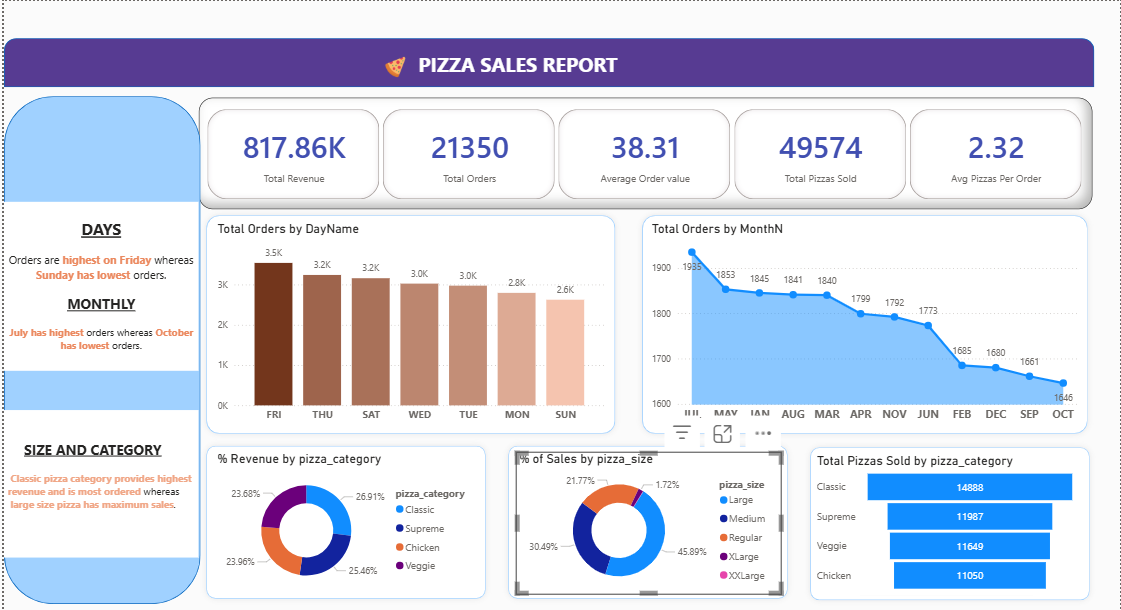

The dashboard page shown, as its layout file describes it:
{"tool":"powerbi","page":{"name":"Page 1","canvas":[1500,820],"ordinal":0},"visuals":[{"type":"cardVisual","fields":{"Data":["pizza_sales.Total Revenue","pizza_sales.Total Orders","pizza_sales.Average Order value","pizza_sales.Total Pizzas Sold","pizza_sales.Avg Pizzas Per Order"]},"box":[261.4,130,1201.4,150],"z":0},{"type":"shape","box":[0,50,1466,66],"z":1000},{"type":"textbox","box":[552,62,280,46],"z":2000},{"type":"image","box":[500,70,52,38],"z":3000},{"type":"shape","box":[264,280,566,310],"z":4000},{"type":"clusteredColumnChart","fields":{"Category":["pizza_sales.DayName"],"Y":["pizza_sales.Total Orders"]},"box":[281.4,295.7,532.9,280],"z":5000},{"type":"shape","box":[850,280,615,310],"z":6000},{"type":"areaChart","fields":{"Y":["pizza_sales.Total Orders"],"Category":["pizza_sales.MonthN"]},"box":[865,295,581.7,280],"z":7000},{"type":"shape","box":[263.3,590,391.7,221.7],"z":8000},{"type":"shape","box":[670,590,391.7,221.7],"z":9000},{"type":"shape","box":[1075,591.7,391.7,221.7],"z":10000},{"type":"donutChart","title":"% Revenue by pizza_category","fields":{"Category":["pizza_sales.pizza_category"],"Y":["pizza_sales.Total Revenue"]},"box":[281.7,605,358.3,193.3],"z":11000},{"type":"donutChart","title":"% of Sales by pizza_size","fields":{"Category":["pizza_sales.pizza_size"],"Y":["pizza_sales.Total Revenue"]},"box":[688.3,605,358.3,193.3],"z":12000},{"type":"donutChart","box":[1088.3,606.7,358.3,193.3],"z":13000},{"type":"funnel","fields":{"Category":["pizza_sales.pizza_category"],"Y":["pizza_sales.Total Pizzas Sold"]},"box":[1088.6,607.1,358.6,191.4],"z":14000},{"type":"shape","box":[0,128.6,264.3,682.9],"z":15000},{"type":"textbox","box":[0,270,261.4,227.1],"z":16000},{"type":"textbox","box":[0,550,261.4,198.6],"z":17000}]}

Visuals, with their boxes in screenshot pixels (x1, y1, x2, y2), scaled from the page's 1500x820 canvas onto the 1121x610 screenshot:
cardVisual - pizza_sales.Total Revenue x pizza_sales.Total Orders: [195,97,1093,208]
shape: [0,37,1096,86]
textbox: [413,46,622,80]
image: [374,52,413,80]
shape: [197,208,620,439]
clusteredColumnChart - pizza_sales.DayName x pizza_sales.Total Orders: [210,220,609,428]
shape: [635,208,1095,439]
areaChart - pizza_sales.Total Orders x pizza_sales.MonthN: [646,219,1081,428]
shape: [197,439,490,604]
shape: [501,439,793,604]
shape: [803,440,1096,605]
"% Revenue by pizza_category" donutChart: [211,450,478,594]
"% of Sales by pizza_size" donutChart: [514,450,782,594]
donutChart: [813,451,1081,595]
funnel - pizza_sales.pizza_category x pizza_sales.Total Pizzas Sold: [814,452,1082,594]
shape: [0,96,198,604]
textbox: [0,201,195,370]
textbox: [0,409,195,557]
